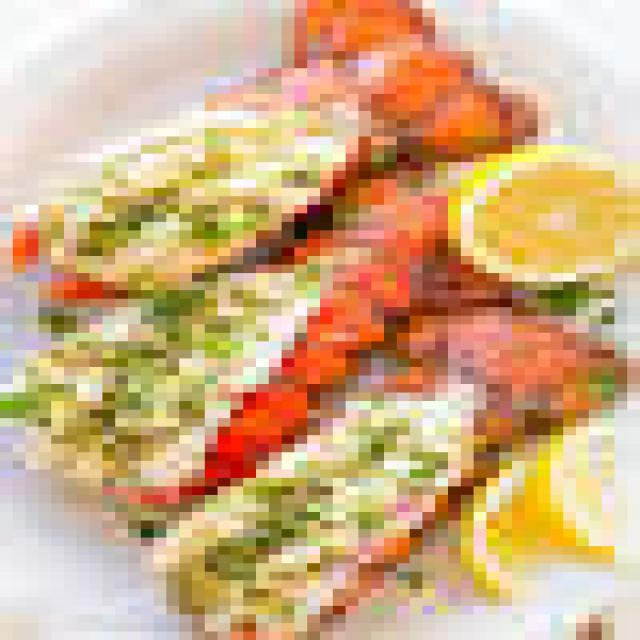lemon: (448, 145, 640, 282)
lobster tail: (0, 0, 446, 281)
